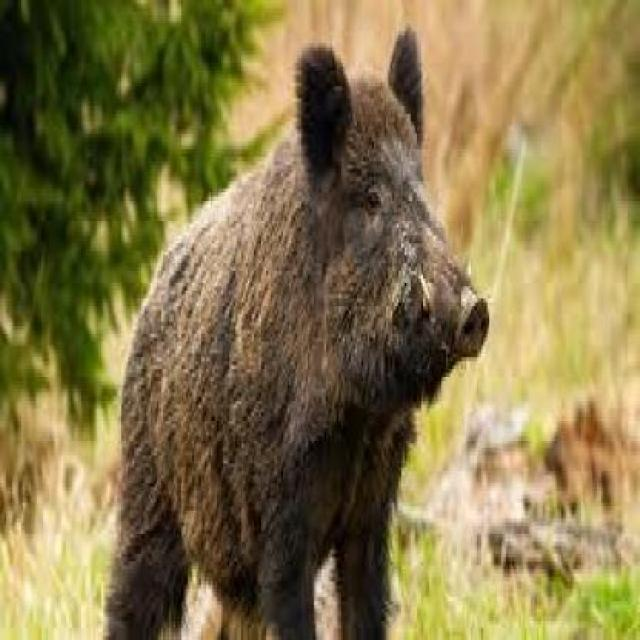wildboar: (97, 11, 489, 640)
